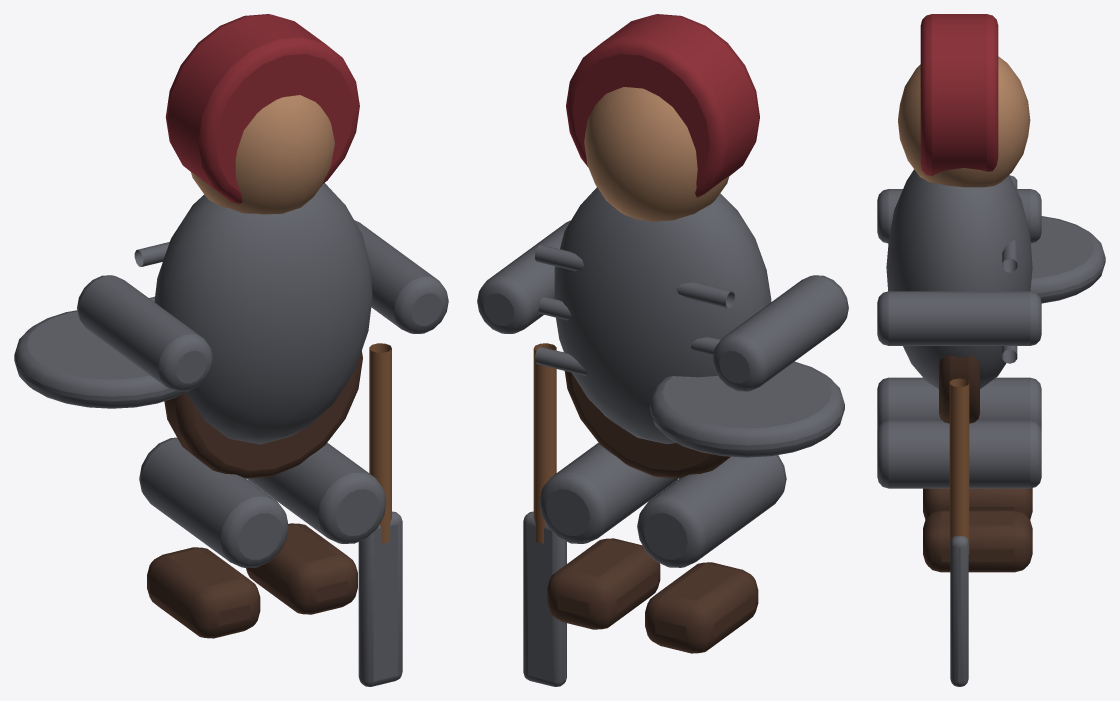
The model's file is hero.glb.
3 views of the same model, side by side, from view 1: azimuth 30°, elevation 25°; view 2: azimuth 150°, elevation 25°; view 3: azimuth 270°, elevation 25° (orthographic). The views are drawn at different scales.
Visible parts, largest first — view 1: TorsoMesh, Hood, LeftLegMesh, Head, Shield, LeftArmMesh, RightLegMesh, LeftLegBoot, Belt, Blade, RightLegBoot, RightArmMesh (+1 smaller); view 2: TorsoMesh, Hood, Shield, Head, LeftLegMesh, LeftArmMesh, RightLegMesh, LeftLegBoot, RightLegBoot, Blade, RightArmMesh, Belt (+4 smaller); view 3: TorsoMesh, Hood, RightLegMesh, RightArmMesh, Head, RightLegBoot, LeftLegMesh, Shield, WeaponHandle, Blade, LeftLegBoot, Belt (+2 smaller).
Boxes of the visible parts, x1,y1,x2,y2 form: TorsoMesh: (154,183,372,444); Hood: (165,14,359,204); LeftLegMesh: (139,437,288,567); Head: (191,95,334,214); Shield: (14,310,184,408); LeftArmMesh: (77,275,212,391); RightLegMesh: (247,442,386,543); LeftLegBoot: (147,547,260,638); Belt: (164,350,362,478); Blade: (358,511,402,686); RightLegBoot: (246,523,357,614); RightArmMesh: (354,220,448,333); TorsoMesh: (554,187,771,444); Hood: (566,14,759,197); Shield: (650,361,844,457); Head: (584,87,729,221); LeftLegMesh: (637,455,786,567); LeftArmMesh: (712,275,848,391); RightLegMesh: (539,442,677,543); LeftLegBoot: (645,562,758,653); RightLegBoot: (547,538,660,629); Blade: (523,511,566,686); RightArmMesh: (477,220,570,333); Belt: (564,371,730,478); TorsoMesh: (886,169,1032,388); Hood: (920,14,998,176); RightLegMesh: (877,420,1041,488); RightArmMesh: (877,291,1041,345); Head: (898,56,1030,187); RightLegBoot: (923,510,1032,572); LeftLegMesh: (877,377,1041,430); Shield: (1030,216,1105,303); WeaponHandle: (949,378,969,553); Blade: (950,536,968,686); LeftLegBoot: (923,488,1032,519); Belt: (939,355,979,423).
Size of the model in its own units: 1.56 by 2.94 by 1.
